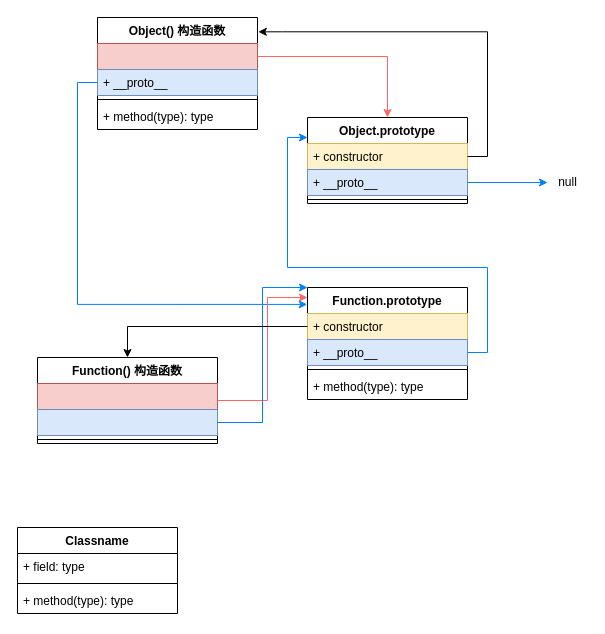
This 605x634 diagram has some shape labels left out. The centre of each missing label's shape, as x and y in pixels:
"+ prototype" belongs at point (177, 56).
"+__proto__" belongs at point (127, 422).
"+prototype" belongs at point (127, 396).
